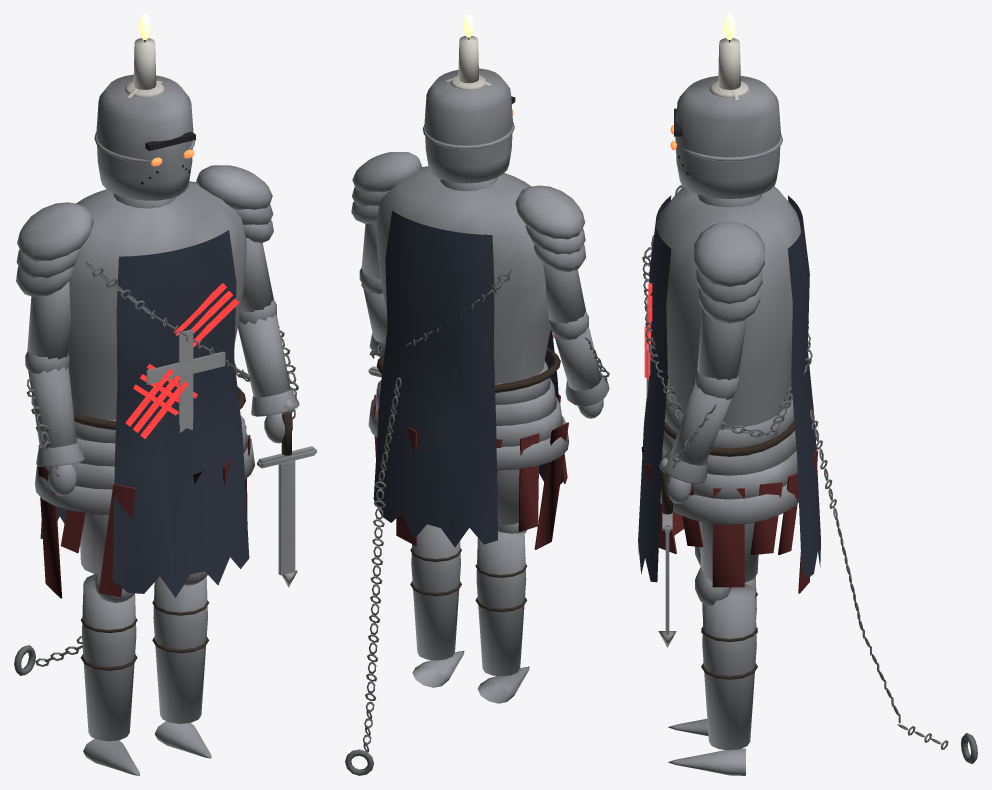
The model's file is penitent_knight.glb.
3 renders of one model, left to right at view 1: azimuth 30°, elevation 25°; view 2: azimuth 150°, elevation 25°; view 3: azimuth 270°, elevation 25°, orthographic. The views are drawn at different scales.
Parts seen in each view (by area): view 1: TabardF, Knight_Root_WornSteel, ArmA_WornSteel, ArmB_WornSteel, Head_WornSteel, LegA_WornSteel, LegB_WornSteel, Knight_Root_HRag_330707, Knight_Root_HWound, Knight_Root_FadedCross, Head_CandleWax, Knight_Root_ChainIron (+2 smaller); view 2: TabardB, Knight_Root_WornSteel, ArmA_WornSteel, Head_WornSteel, LegA_WornSteel, LegB_WornSteel, ArmB_WornSteel, Knight_Root_HRag_330707, Tail_ChainIron, Head_CandleWax, SwordBelt, Knight_Root_ChainIron; view 3: Knight_Root_WornSteel, ArmB_WornSteel, Head_WornSteel, LegB_WornSteel, TabardB, TabardF, Knight_Root_HRag_330707, Tail_ChainIron, Knight_Root_ChainIron, Head_CandleWax, SwordBelt, LegA_WornSteel.
Part boxes in pixels (bbox=[...]): TabardF: bbox=[112, 230, 249, 597]; Knight_Root_WornSteel: bbox=[34, 181, 254, 514]; ArmA_WornSteel: bbox=[16, 202, 93, 495]; ArmB_WornSteel: bbox=[196, 165, 316, 587]; Head_WornSteel: bbox=[94, 74, 195, 208]; LegA_WornSteel: bbox=[80, 513, 139, 775]; LegB_WornSteel: bbox=[153, 571, 211, 758]; Knight_Root_HRag_330707: bbox=[38, 423, 250, 598]; Knight_Root_HWound: bbox=[125, 283, 238, 438]; Knight_Root_FadedCross: bbox=[146, 329, 225, 432]; Head_CandleWax: bbox=[124, 38, 165, 97]; Knight_Root_ChainIron: bbox=[85, 262, 251, 381]; TabardB: bbox=[373, 210, 497, 547]; Knight_Root_WornSteel: bbox=[368, 166, 568, 469]; ArmA_WornSteel: bbox=[515, 185, 609, 418]; Head_WornSteel: bbox=[422, 68, 514, 191]; LegA_WornSteel: bbox=[476, 469, 529, 703]; LegB_WornSteel: bbox=[411, 524, 464, 687]; ArmB_WornSteel: bbox=[351, 152, 421, 377]; Knight_Root_HRag_330707: bbox=[373, 386, 568, 549]; Tail_ChainIron: bbox=[345, 377, 401, 775]; Head_CandleWax: bbox=[446, 36, 491, 89]; SwordBelt: bbox=[376, 347, 560, 393]; Knight_Root_ChainIron: bbox=[369, 269, 512, 358]; Knight_Root_WornSteel: bbox=[656, 186, 800, 524]; ArmB_WornSteel: bbox=[658, 221, 764, 647]; Head_WornSteel: bbox=[675, 76, 782, 207]; LegB_WornSteel: bbox=[668, 521, 758, 775]; TabardB: bbox=[787, 195, 820, 577]; TabardF: bbox=[638, 195, 671, 582]; Knight_Root_HRag_330707: bbox=[641, 447, 817, 593]; Tail_ChainIron: bbox=[810, 409, 977, 764]; Knight_Root_ChainIron: bbox=[642, 185, 812, 438]; Head_CandleWax: bbox=[709, 38, 749, 99]; SwordBelt: bbox=[664, 421, 794, 456]; LegA_WornSteel: bbox=[668, 546, 756, 736].
Bounding box in the file's own units: 0.7497 × 2 × 0.822.
